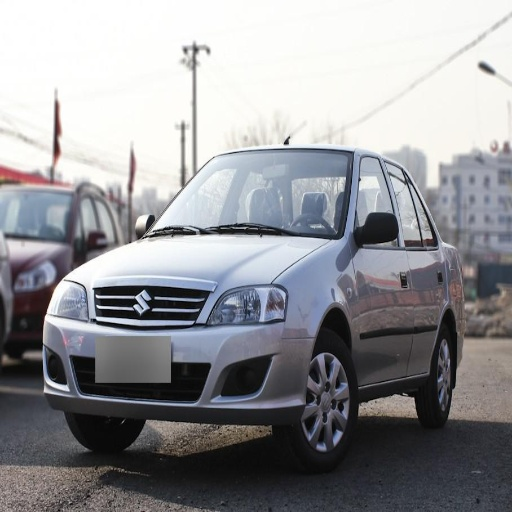front_bumper: (44, 278, 316, 419)
front_glass: (148, 154, 352, 238)
front_left_door: (354, 156, 412, 385)
front_right_light: (51, 281, 89, 320)
